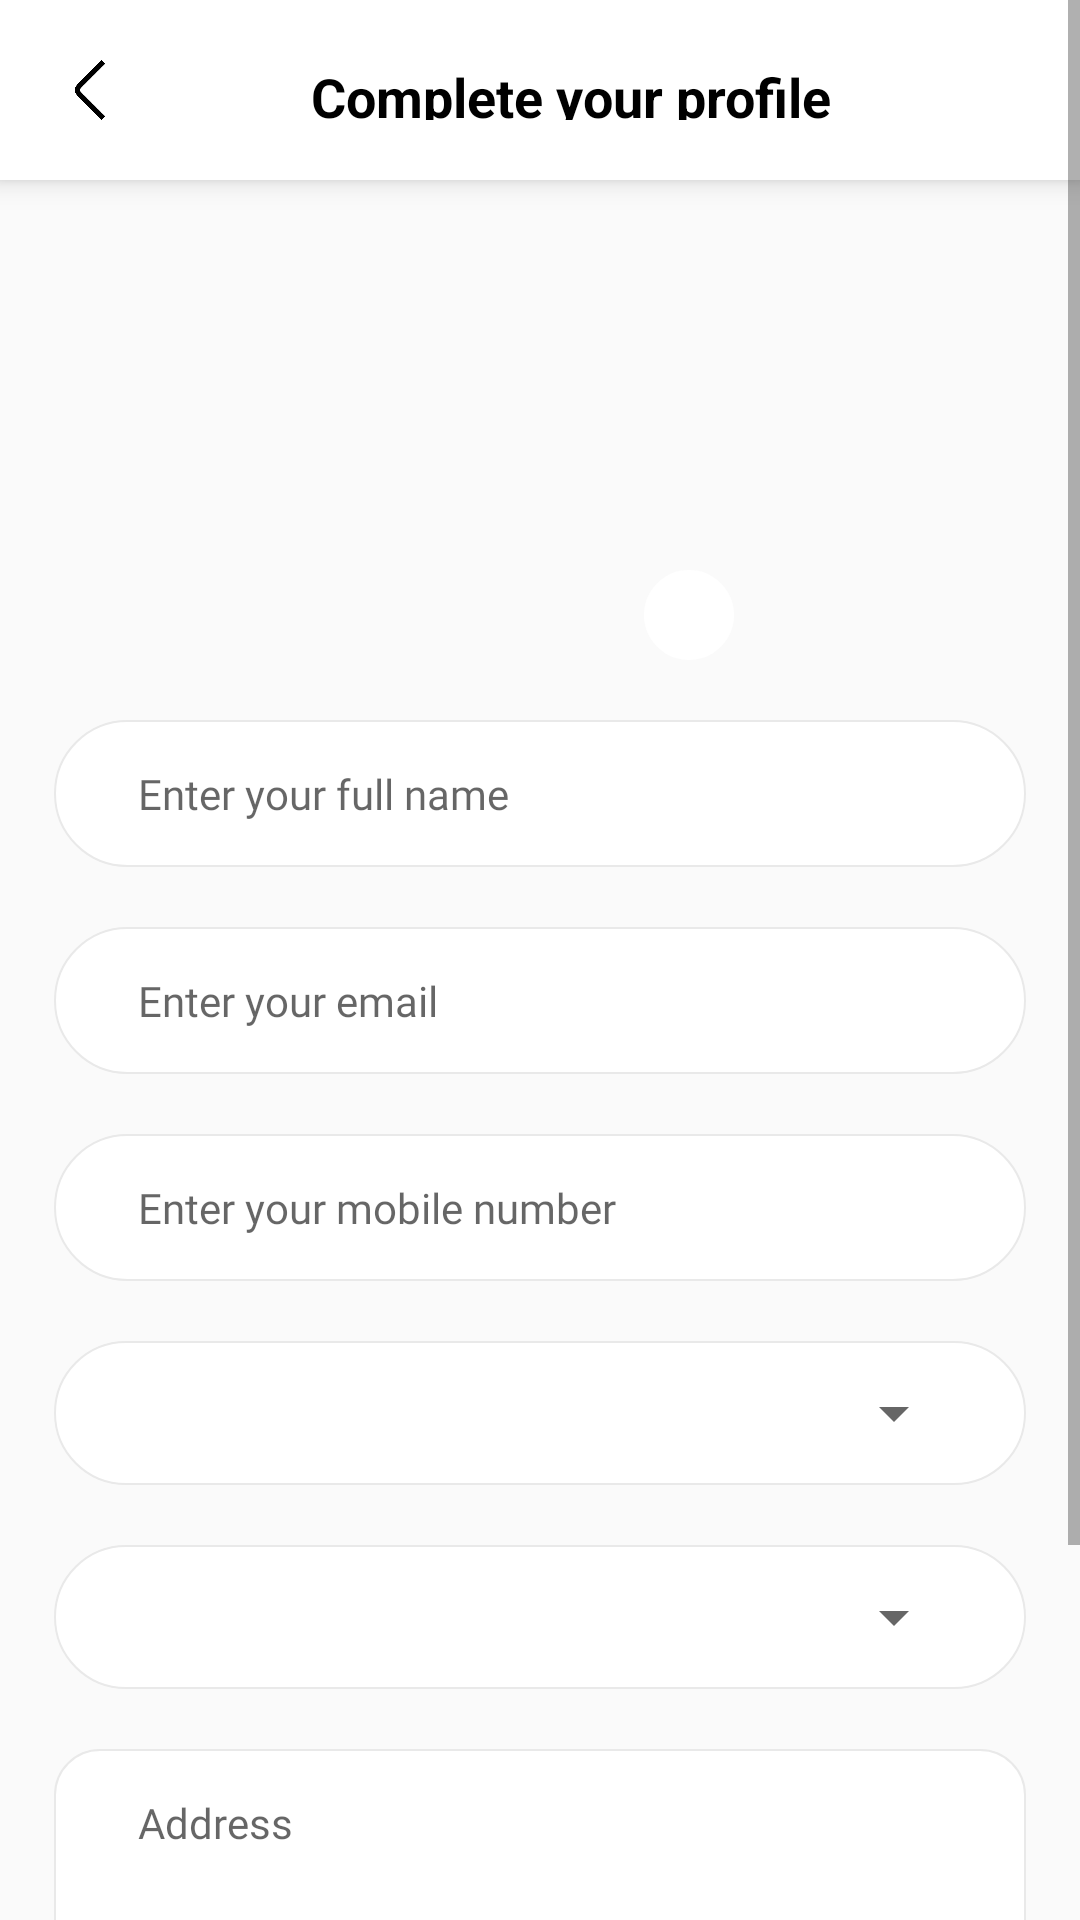

Named icons in this screenshot (1080x1920) and their bounding boxes, (x1, y1, x2, y2):
back: (75, 60, 105, 120)
